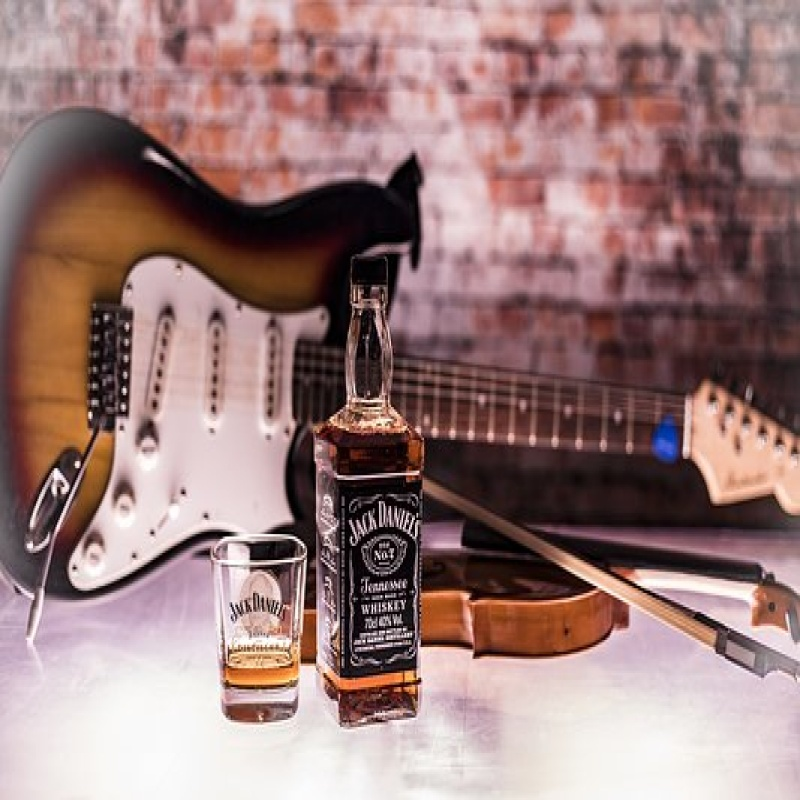whiskey: (217, 530, 306, 719)
